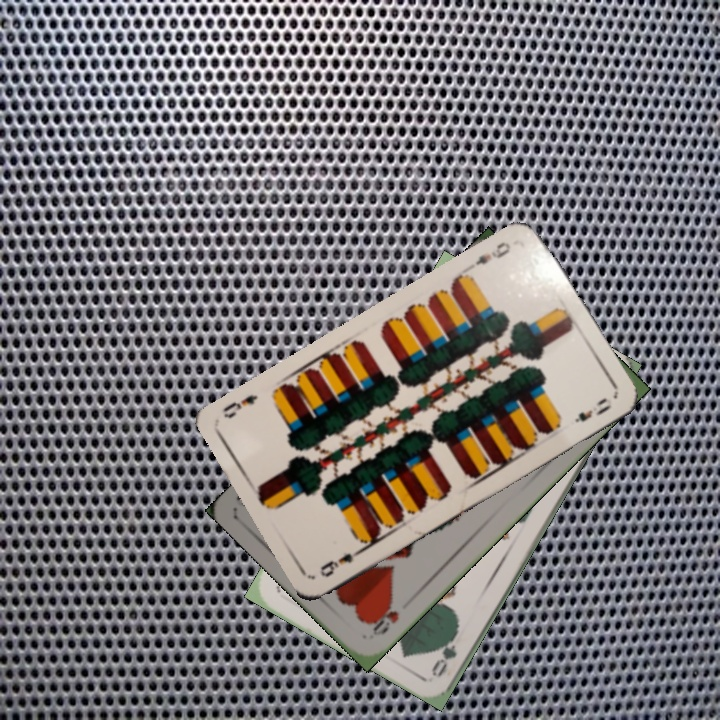E9: (316, 544, 367, 580), (466, 237, 514, 272)
GO: (427, 622, 462, 680)
HO: (365, 597, 402, 640)
